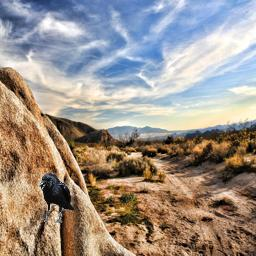Crow: (39, 173, 74, 223)
